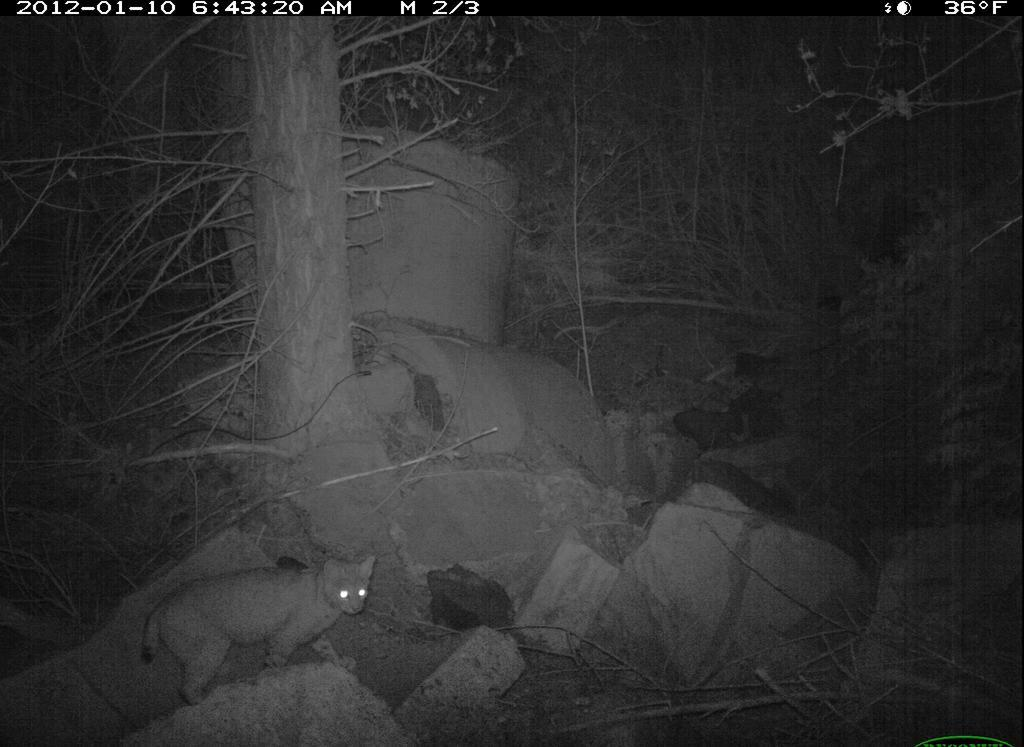bobcat: (123, 536, 396, 731)
